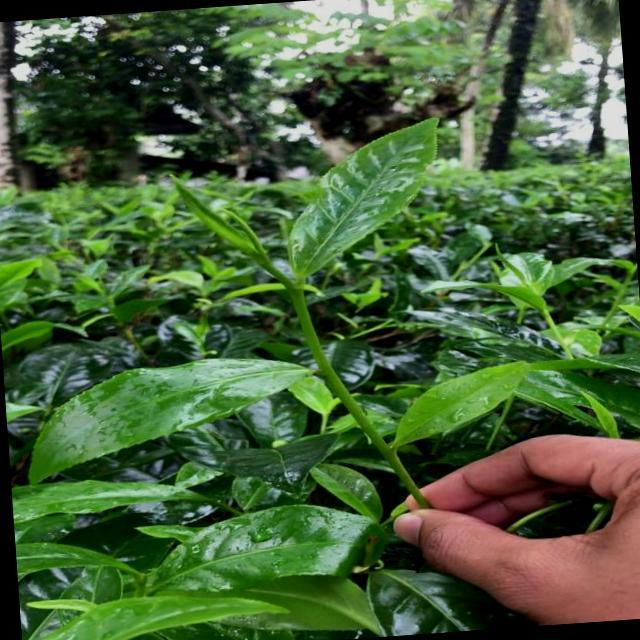Stem: (292, 287, 304, 299)
